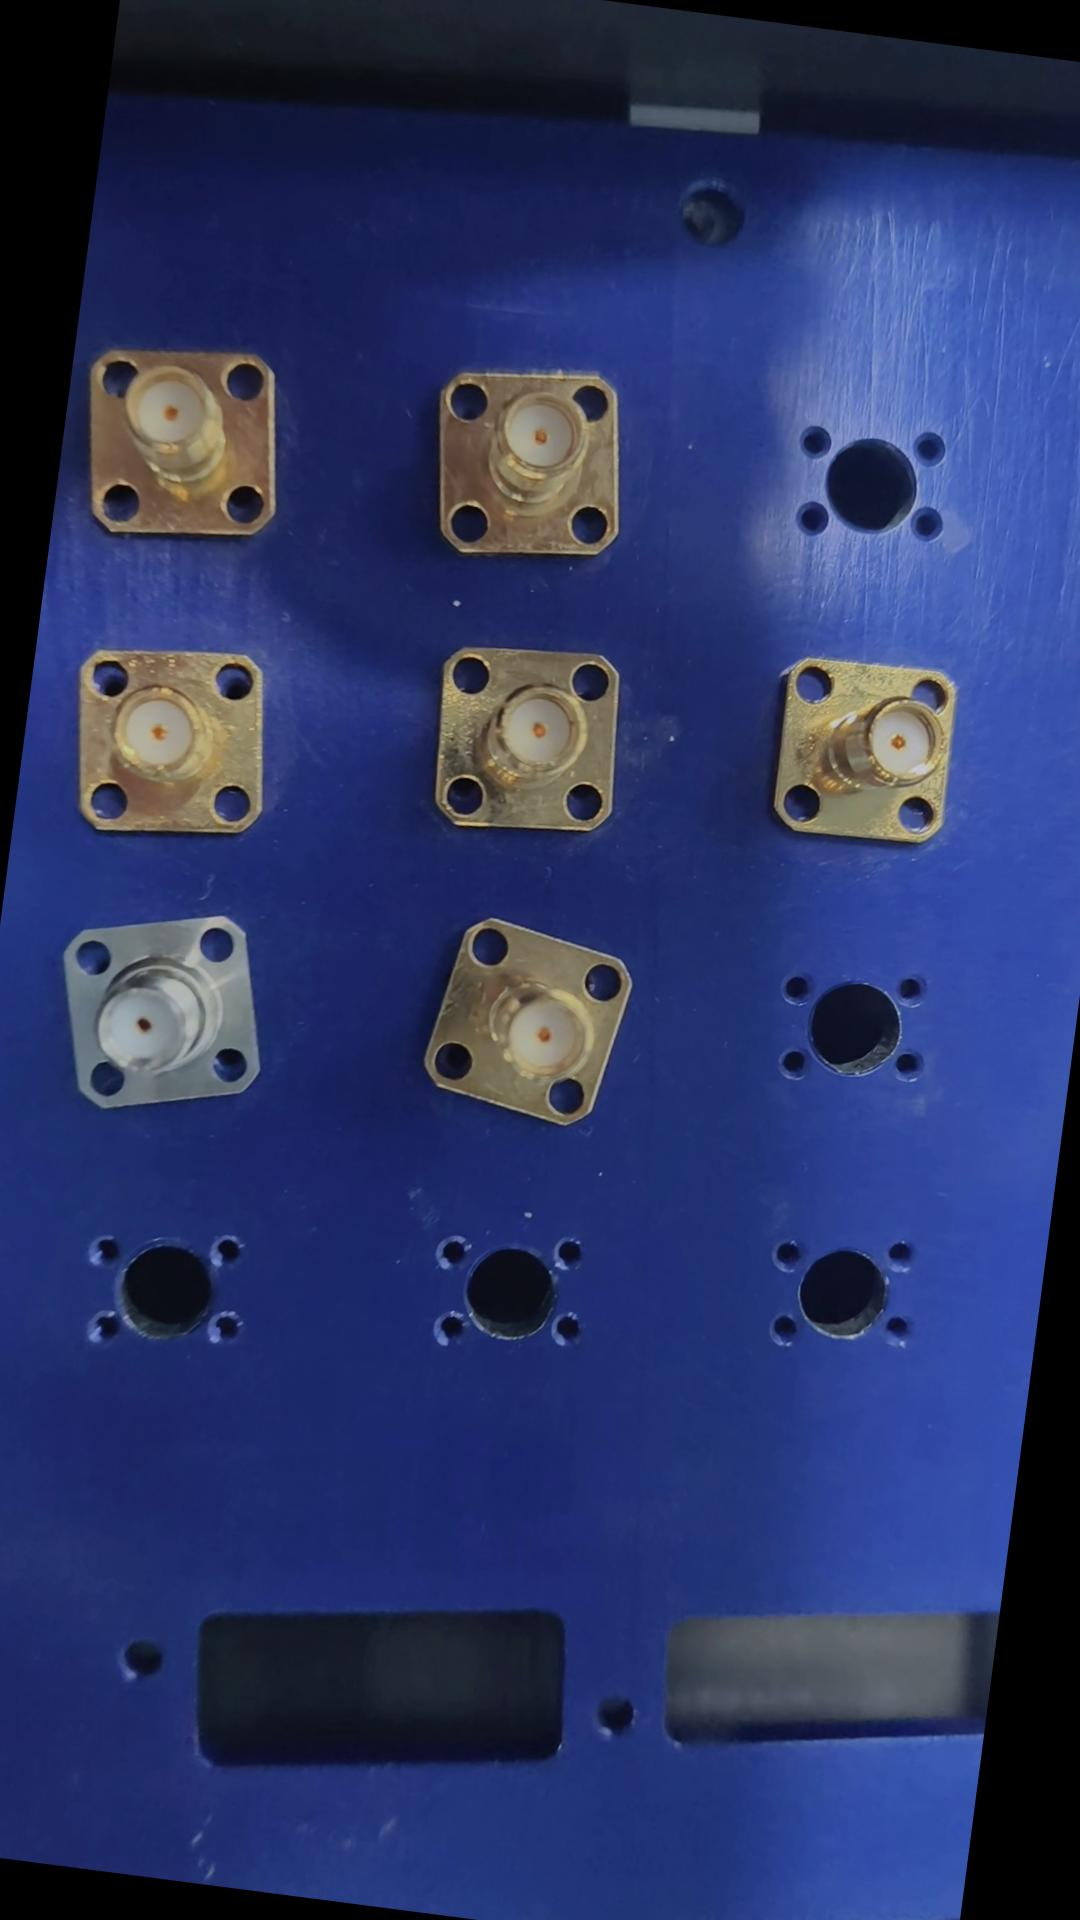SMA: (47, 889, 301, 1138), (66, 629, 294, 866), (415, 632, 650, 860), (418, 907, 651, 1135), (417, 352, 654, 572), (69, 345, 309, 563), (764, 645, 977, 858)
